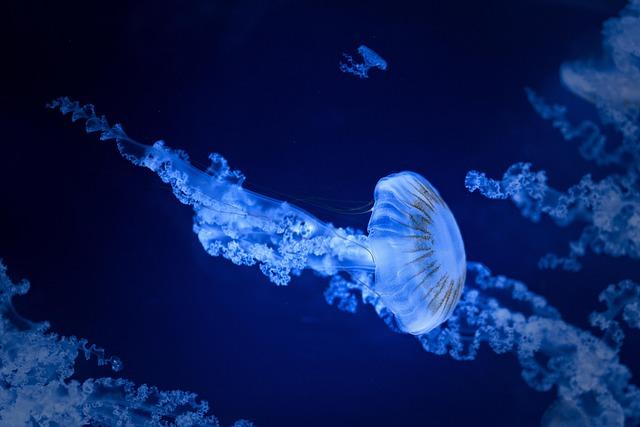Non_Gorille: (6, 7, 640, 427)
